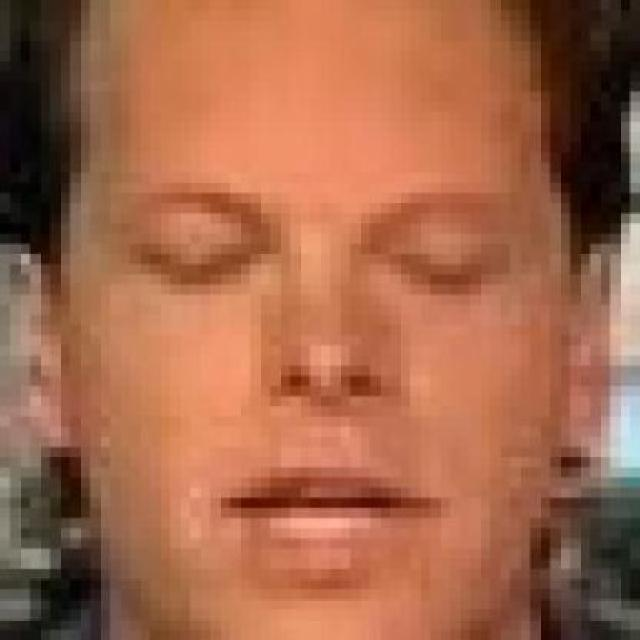drowsy: (146, 225, 260, 301), (385, 235, 497, 307)
